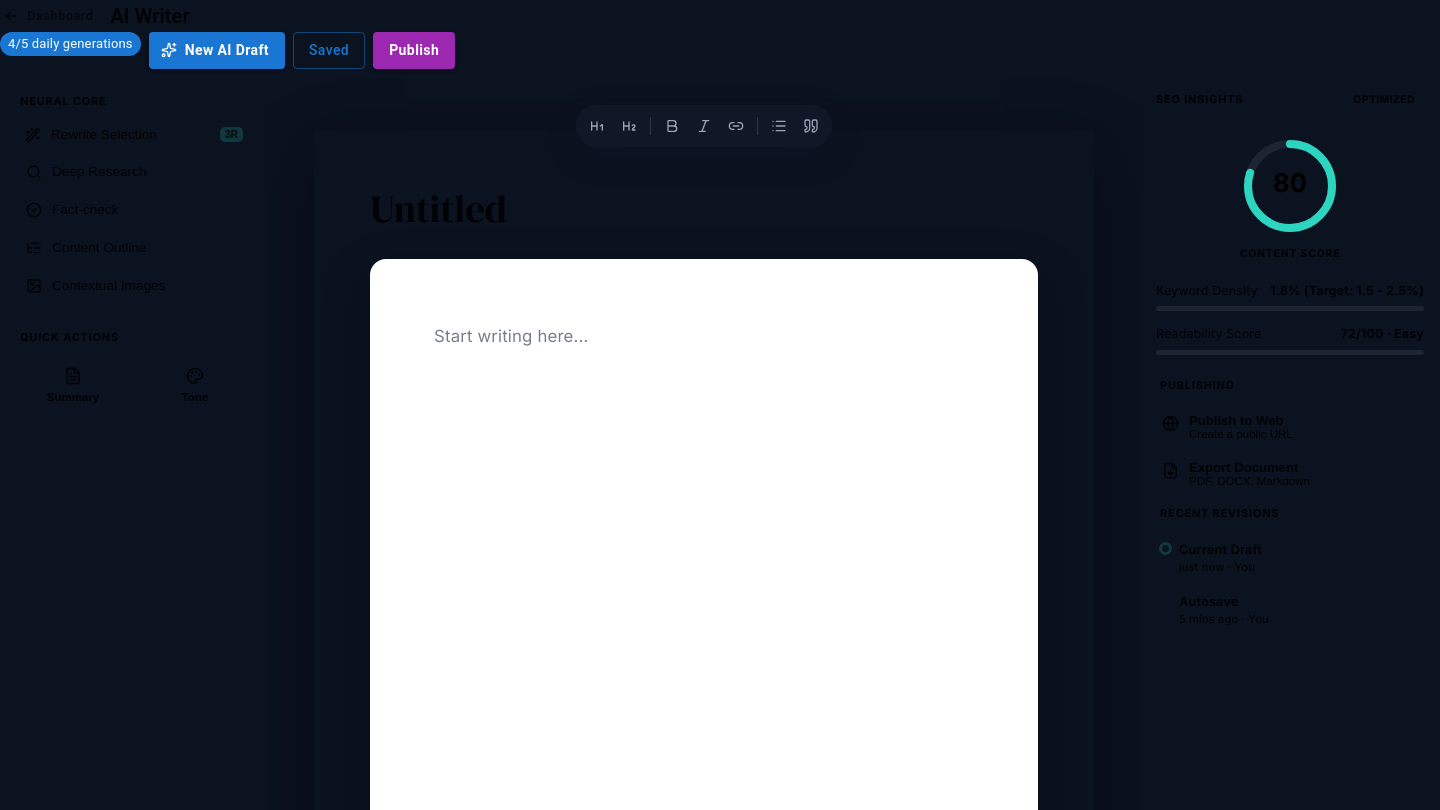
Test: AI Writer — real generation › puts the server's title and body into the editor
This screenshot has width=1440, height=810.
Click the button "New AI Draft". click: (217, 50)
box: [149,32,285,68]
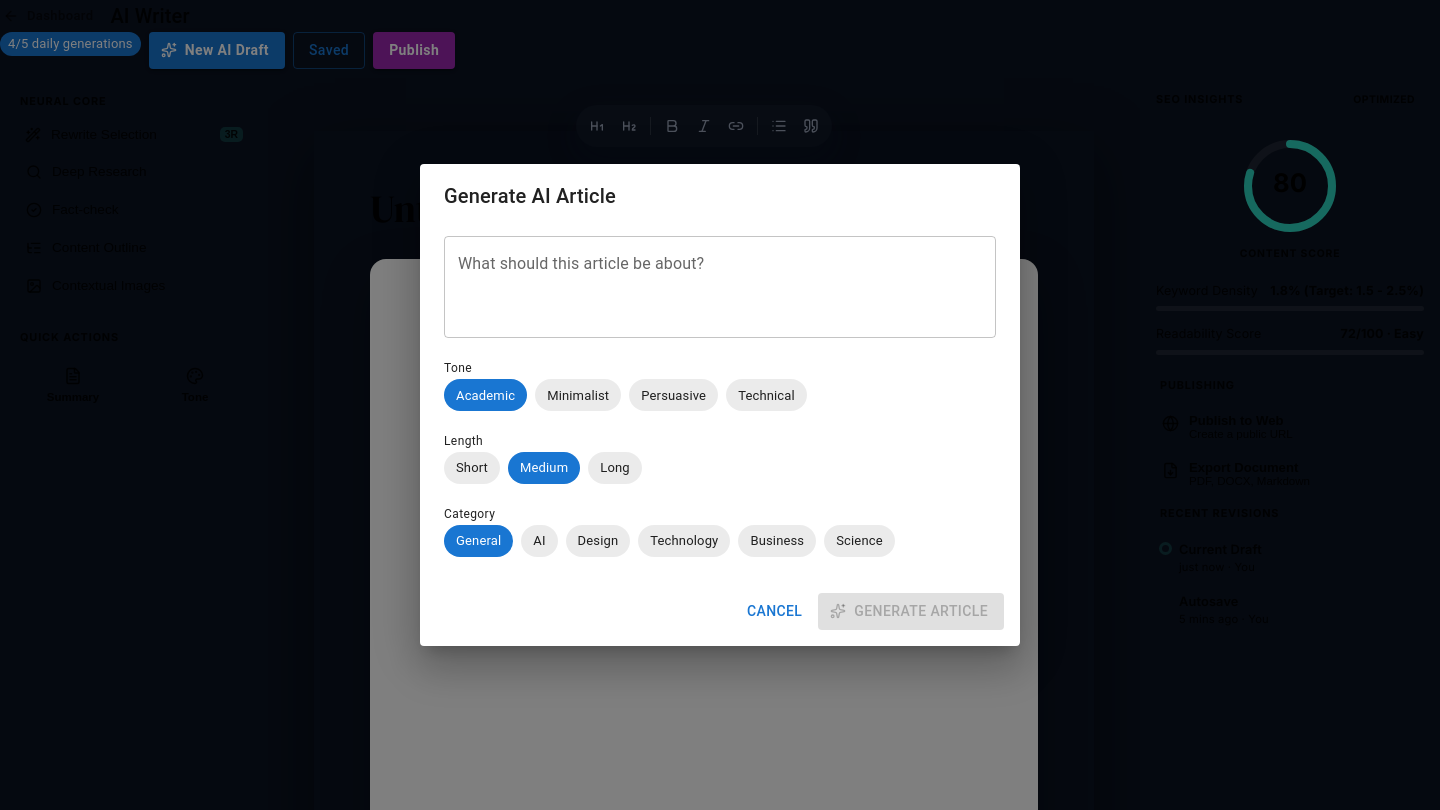
Type "distributed systems" into the text box labelled "What should this article be about?". click: (720, 287)
box: [458,253,982,322]
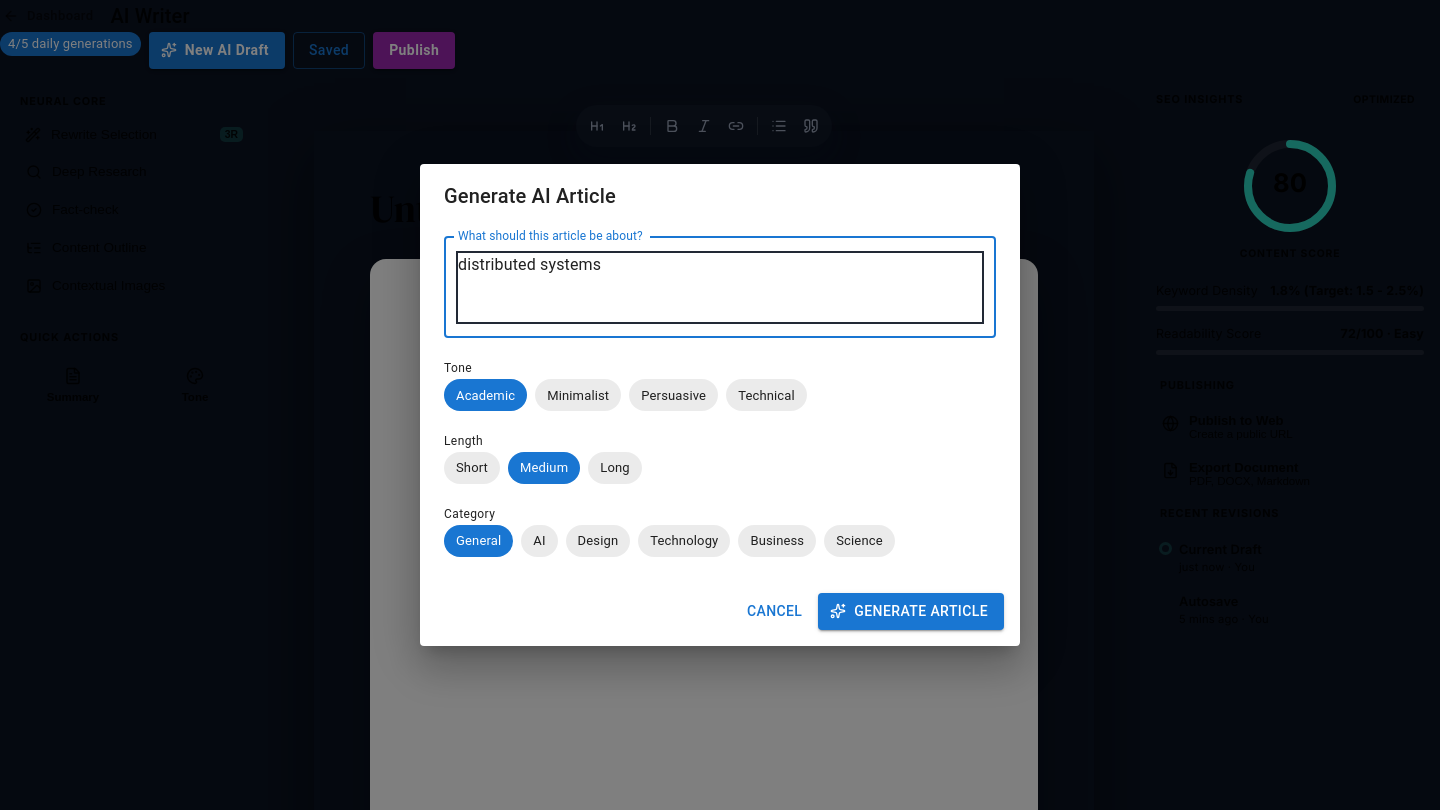
Click the button "Generate Article". click: (911, 611)
box: [818,593,1004,630]
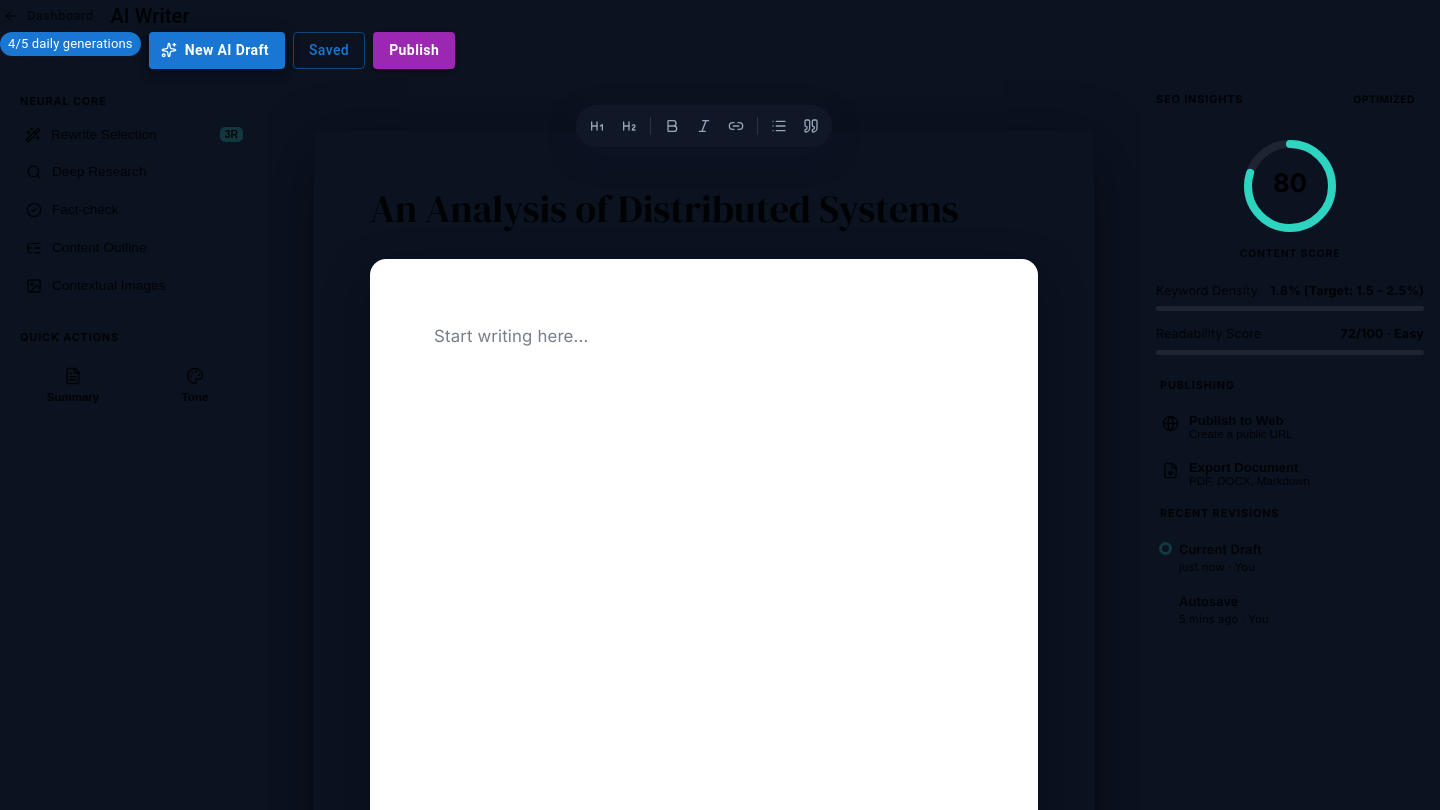
Now the 1st text box with placeholder "Untitled document" holds "An Analysis of Distributed Systems", box [370,186,1038,234]
